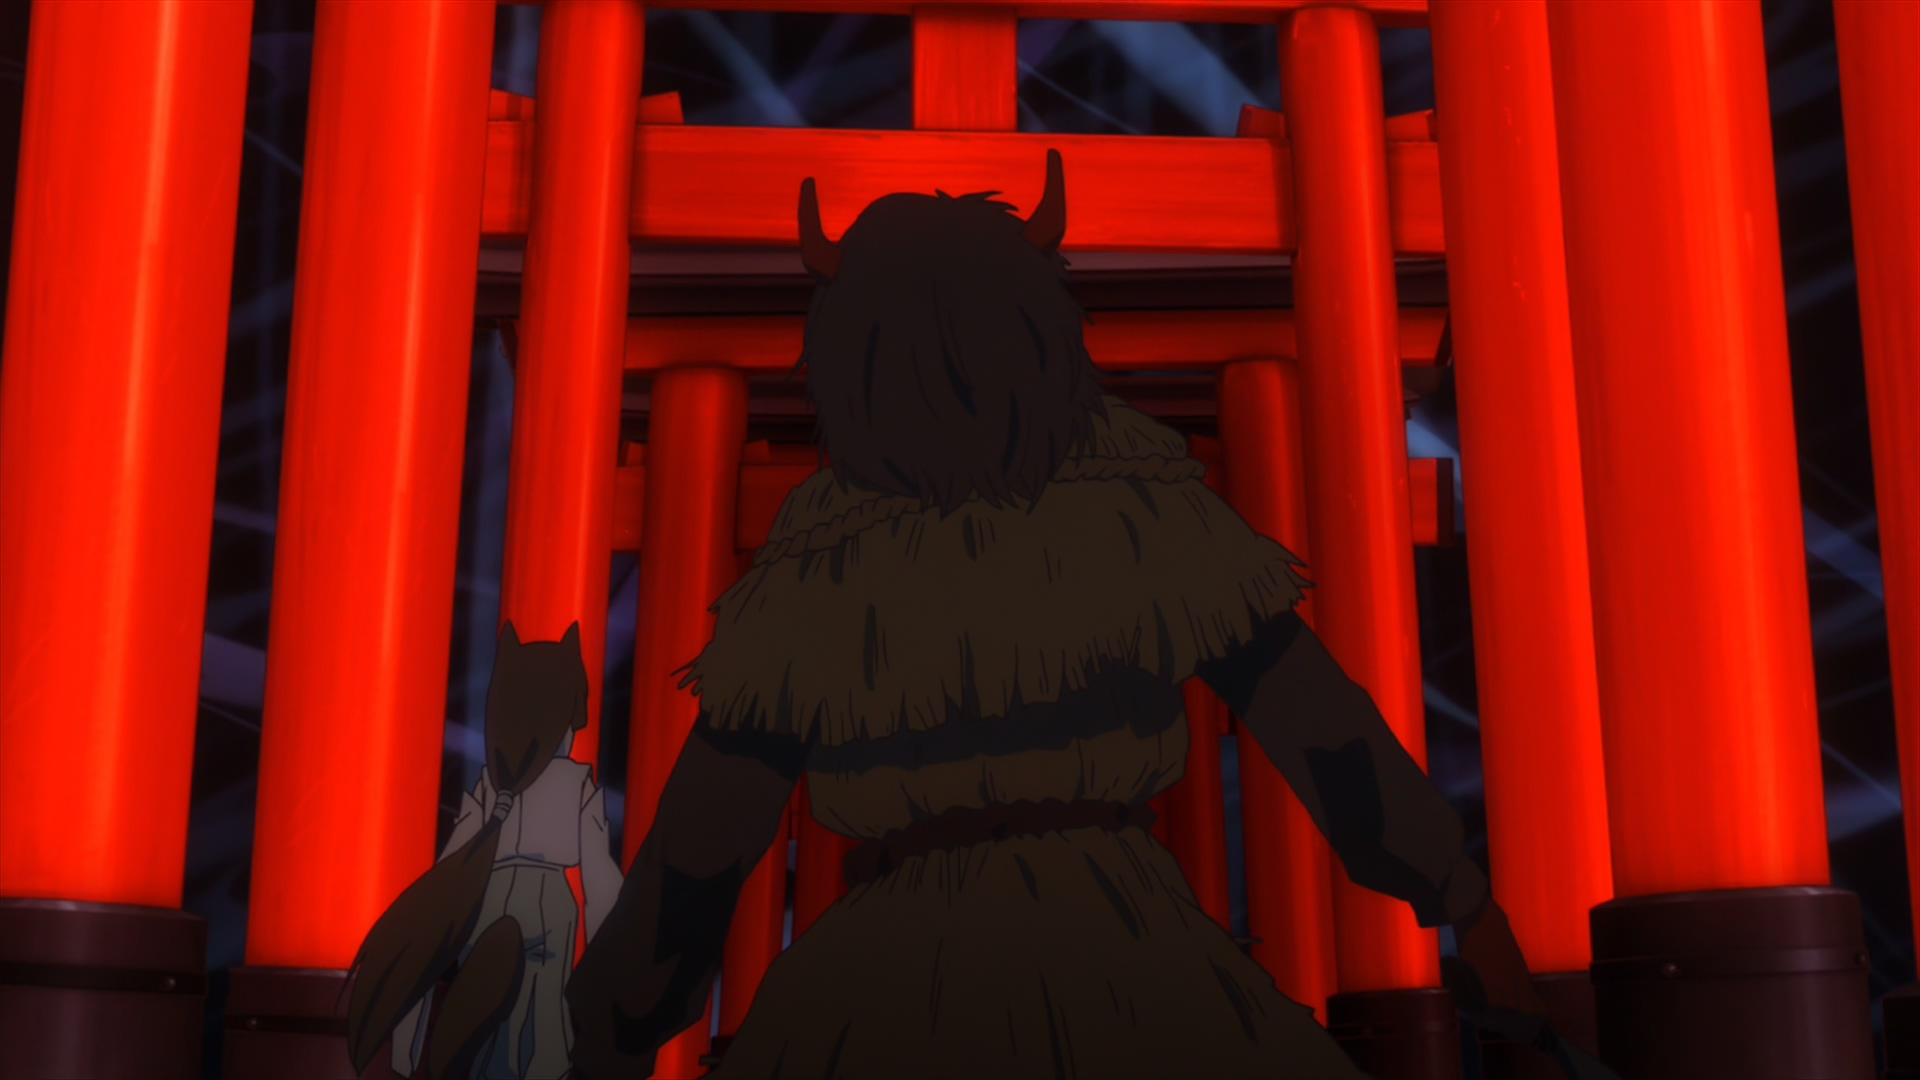其他: (564, 150, 1549, 1080), (339, 622, 620, 1080)
